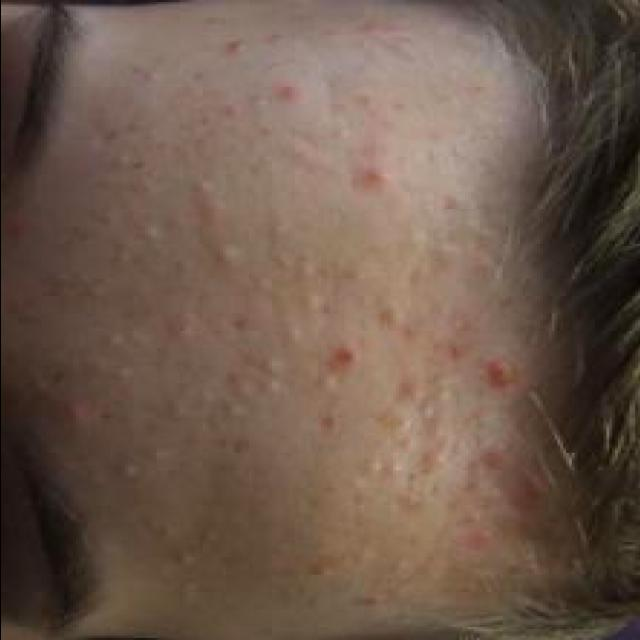Acne: (483, 360, 518, 388), (356, 167, 391, 193), (328, 344, 361, 370), (217, 36, 251, 60)
